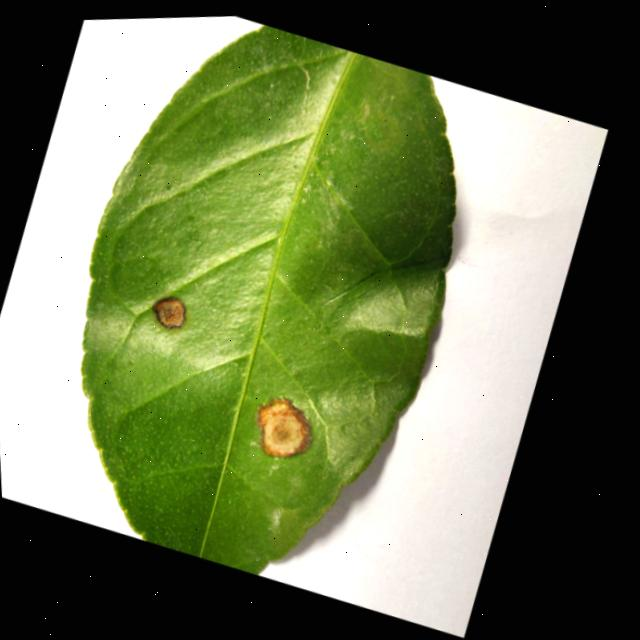antracnose: (81, 26, 454, 573), (256, 399, 310, 457), (152, 297, 184, 328)
